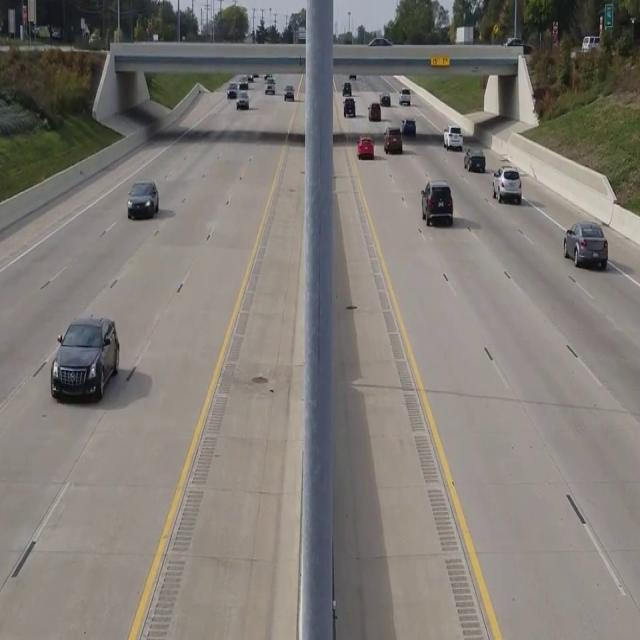car: (51, 315, 120, 402), (563, 220, 608, 270), (422, 180, 454, 227), (126, 182, 158, 220), (492, 166, 522, 204), (464, 147, 486, 172)
